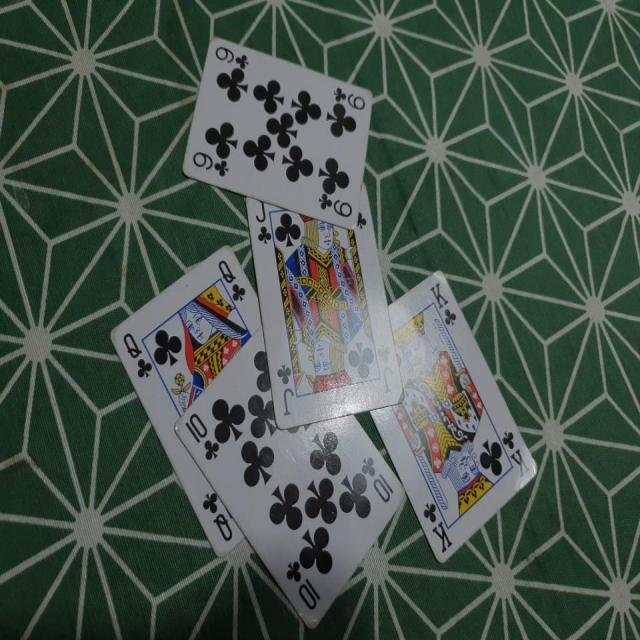10 Trefoils: (172, 326, 405, 630)
9 Trefoils: (182, 36, 376, 232)
J Trefoils: (245, 183, 406, 430)
K Trefoils: (370, 268, 537, 562)
Q Trefoils: (110, 243, 260, 558)
